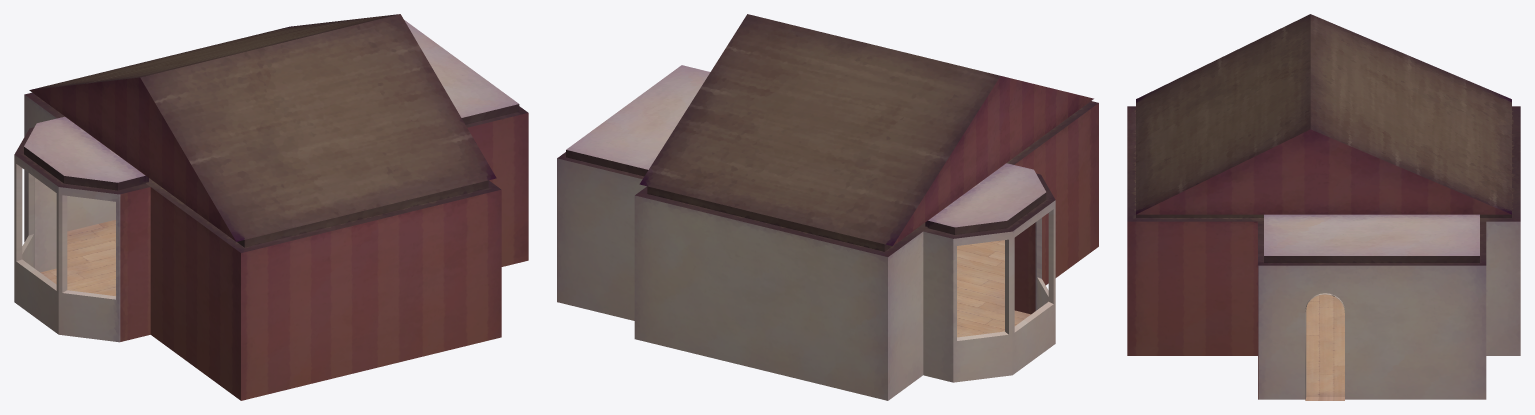
Rendered from room06_lightray_fix.fbx.
3 views of the same model, side by side, from view 1: azimuth 30°, elevation 25°; view 2: azimuth 150°, elevation 25°; view 3: azimuth 270°, elevation 25° (orthographic). The views are drawn at different scales.
Parts seen in each view (by area): view 1: lightray_walls; view 2: lightray_walls; view 3: lightray_walls.
Boxes of the visible parts, <box> form: lightray_walls: <box>14,14,528,400</box>; lightray_walls: <box>557,14,1098,400</box>; lightray_walls: <box>1127,14,1520,400</box>.
Bounding box in the file's own units: 2674 × 1479 × 2329.
